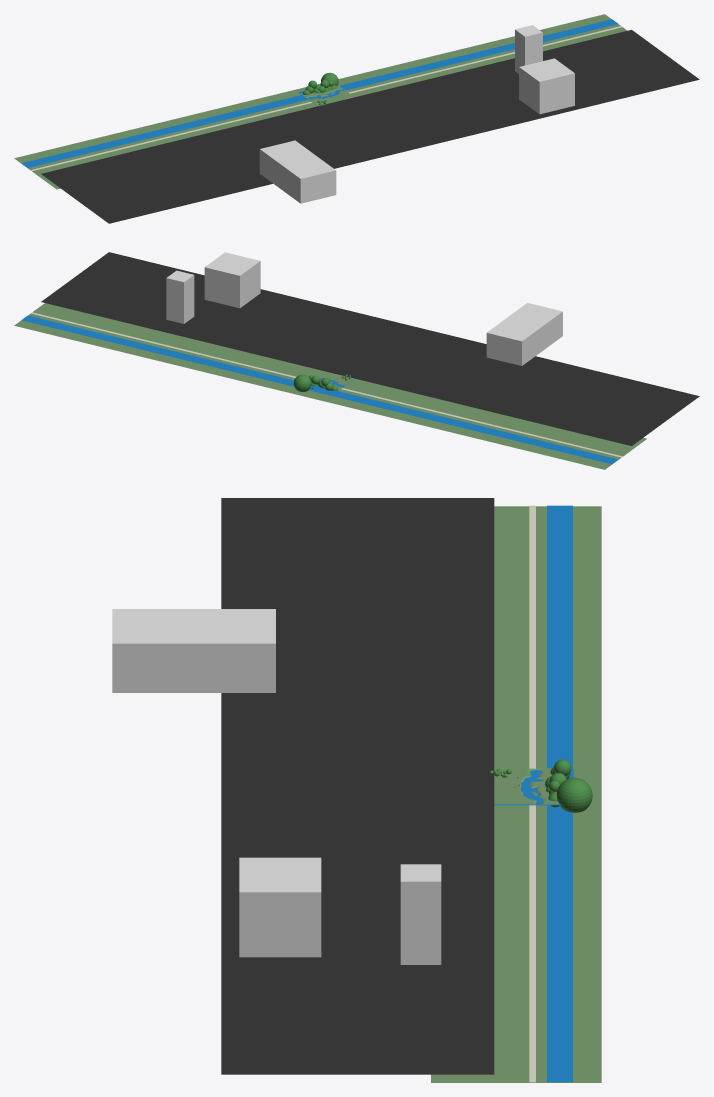
3 views of the same model, one above another, from view 1: azimuth 30°, elevation 25°; view 2: azimuth 150°, elevation 25°; view 3: azimuth 270°, elevation 25° (orthographic). The views are drawn at different scales.
Visible parts, largest first — view 1: PlaneAsphalt, PlaneGrass, PlaneRiver, Building.006, Building.005, PlaneSidewalk, Building.004, Forest, Grass_100m_Subdiv9x; view 2: PlaneAsphalt, PlaneGrass, PlaneRiver, Building.006, Building.005, Building.004, PlaneSidewalk, Forest; view 3: PlaneAsphalt, PlaneGrass, PlaneRiver, Building.006, Building.005, Building.004, PlaneSidewalk, Forest, Grass_100m_Subdiv9x.
Boxes of the visible parts, x1=… form: PlaneAsphalt: x1=41, y1=29, x2=699, y2=223; PlaneGrass: x1=14, y1=14, x2=627, y2=189; PlaneRiver: x1=21, y1=19, x2=618, y2=167; Building.006: x1=259, y1=140, x2=336, y2=203; Building.005: x1=519, y1=58, x2=574, y2=114; PlaneSidewalk: x1=31, y1=26, x2=622, y2=171; Building.004: x1=515, y1=25, x2=542, y2=73; Forest: x1=303, y1=72, x2=338, y2=95; Grass_100m_Subdiv9x: x1=302, y1=85, x2=354, y2=105; PlaneAsphalt: x1=41, y1=252, x2=699, y2=445; PlaneGrass: x1=14, y1=303, x2=646, y2=469; PlaneRiver: x1=21, y1=315, x2=617, y2=464; Building.006: x1=486, y1=303, x2=562, y2=365; Building.005: x1=204, y1=252, x2=260, y2=308; Building.004: x1=166, y1=270, x2=194, y2=323; PlaneSidewalk: x1=30, y1=312, x2=622, y2=457; Forest: x1=293, y1=374, x2=337, y2=391; PlaneAsphalt: x1=221, y1=498, x2=494, y2=1074; PlaneGrass: x1=431, y1=506, x2=601, y2=1082; PlaneRiver: x1=547, y1=505, x2=572, y2=1082; Building.006: x1=112, y1=609, x2=275, y2=692; Building.005: x1=239, y1=857, x2=321, y2=957; Building.004: x1=400, y1=864, x2=441, y2=964; PlaneSidewalk: x1=529, y1=505, x2=535, y2=1082; Forest: x1=545, y1=759, x2=592, y2=812; Grass_100m_Subdiv9x: x1=494, y1=768, x2=558, y2=804.
Bounding box in the file's own units: 160000 × 57390 × 12385.
